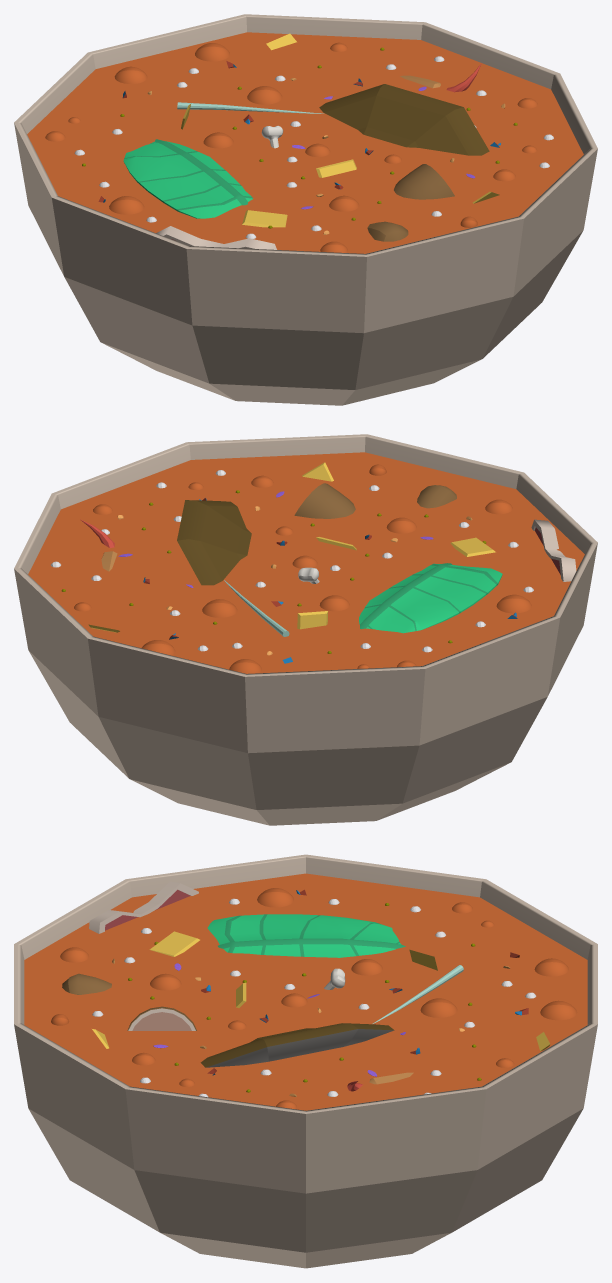
Rendered from Soup.fbx.
The picture shows the model from 3 angles, top to bottom: view 1: azimuth 30°, elevation 25°; view 2: azimuth 150°, elevation 25°; view 3: azimuth 270°, elevation 25°; orthographic projection. The views are drawn at different scales.
Visible parts, largest first — view 1: Soup; view 2: Soup; view 3: Soup.
Boxes of the visible parts, left/top/right/bottom form: Soup: left=14, top=14, right=597, bottom=405; Soup: left=14, top=434, right=597, bottom=825; Soup: left=14, top=854, right=597, bottom=1268.
Size of the model in its own units: 400 by 174 by 380.
